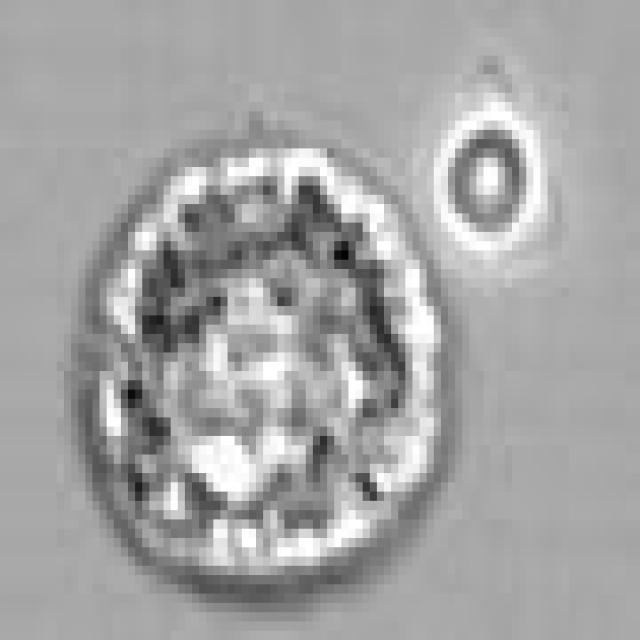Cancer Cell: (78, 139, 441, 584)
WBC: (441, 112, 547, 250)
